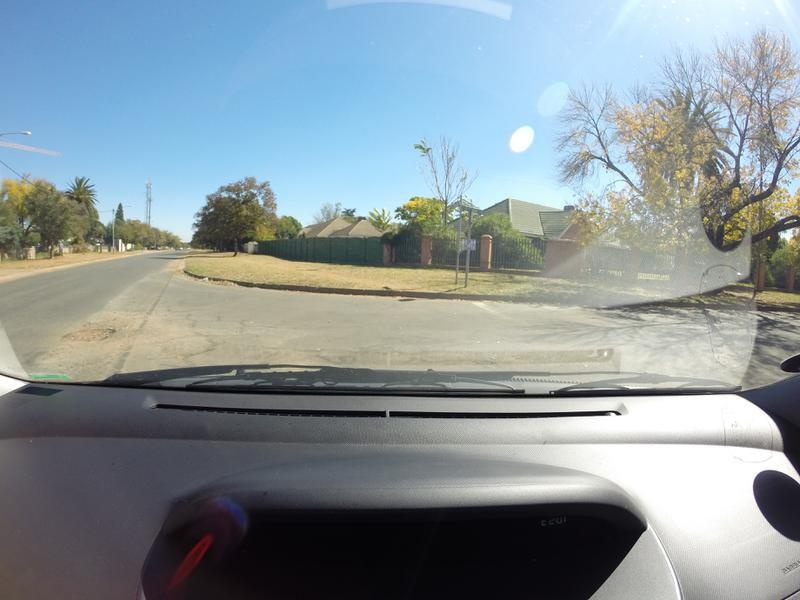pothole: (47, 315, 118, 347)
